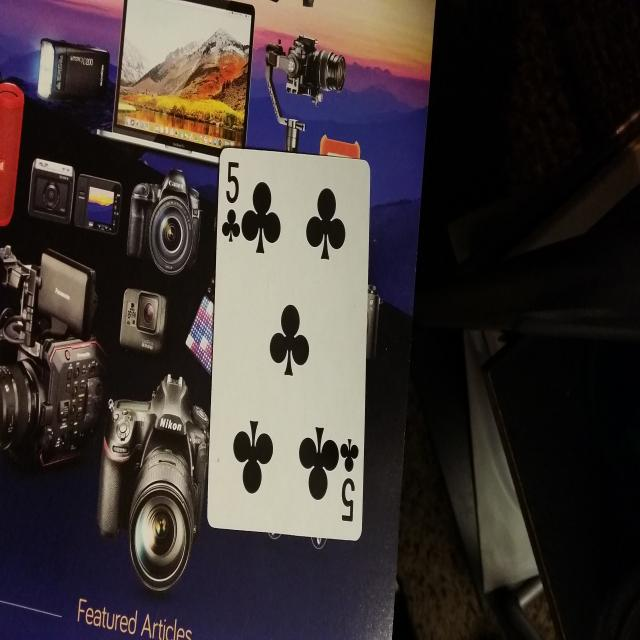5c: (332, 429, 362, 532), (217, 146, 247, 247)
